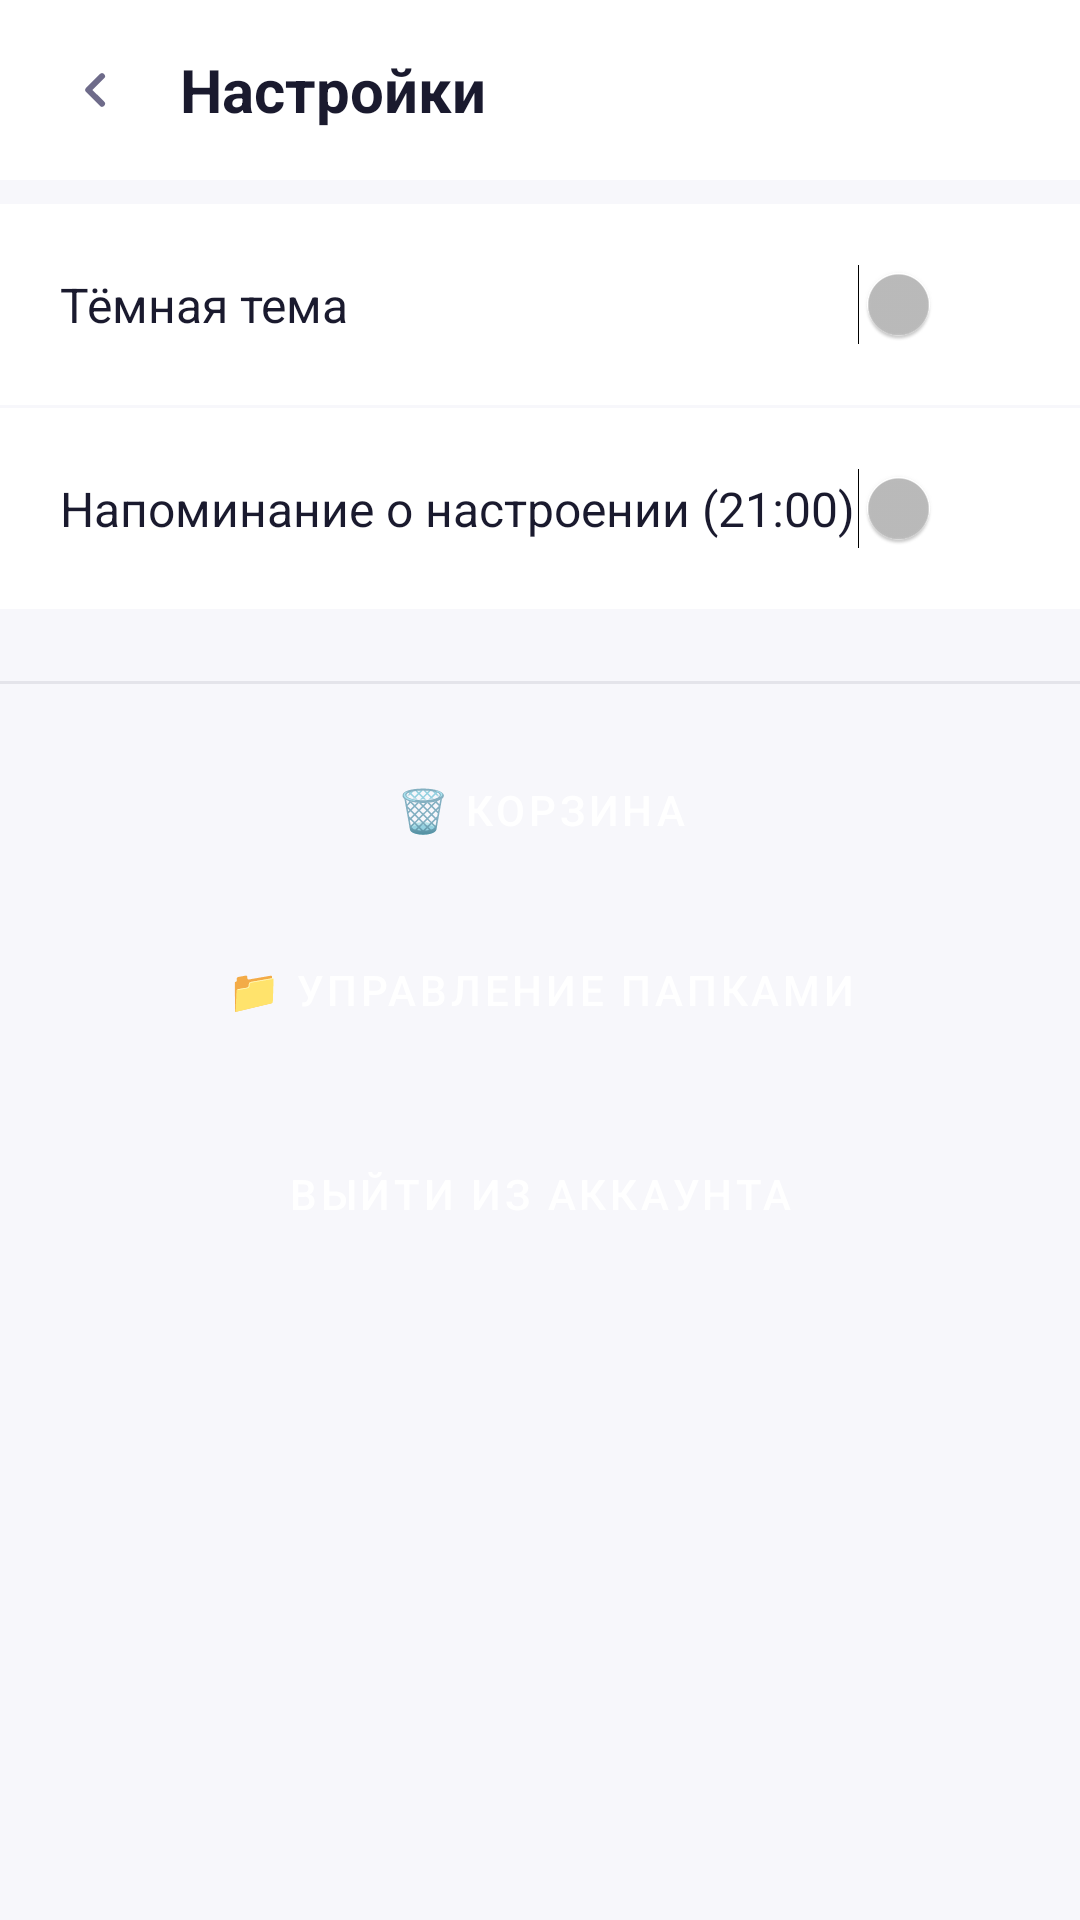

Screen size 1080*1920. Icon name, then its box in pixels as (x1, y1, x2, y2):
back: (85, 73, 105, 107)
